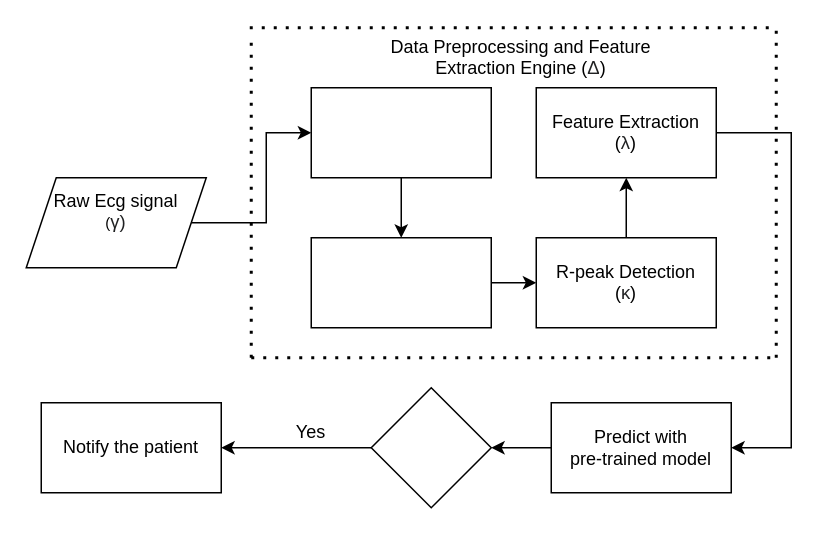
The diagram is 830 pixels wide and 534 high, and some of its shapes have lost their labels. Each missing label, with the box of its shape:
Baseline Wander Removal( α ): (310, 86, 491, 178)
Has AF occurred: (370, 386, 491, 508)
Scaling( β ): (310, 236, 491, 328)
